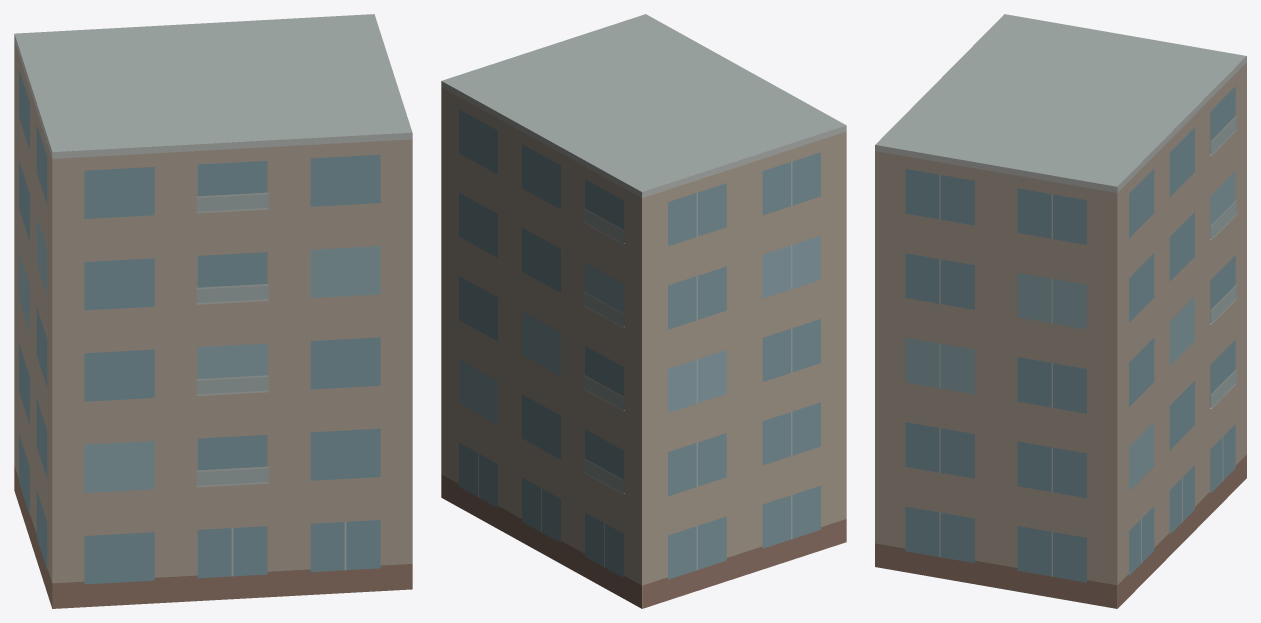
The model's file is survey-upis-32537565.glb.
3 views of the same model, side by side, from view 1: azimuth 30°, elevation 25°; view 2: azimuth 150°, elevation 25°; view 3: azimuth 270°, elevation 25° (orthographic). The views are drawn at different scales.
Visible parts, largest first — view 1: survey-upis-32537565.tmp; view 2: survey-upis-32537565.tmp; view 3: survey-upis-32537565.tmp.
Boxes of the visible parts, left/top/right/bottom form: survey-upis-32537565.tmp: left=14, top=14, right=412, bottom=608; survey-upis-32537565.tmp: left=441, top=14, right=846, bottom=608; survey-upis-32537565.tmp: left=875, top=14, right=1246, bottom=608.
Size of the model in its own units: 14.63 by 16.65 by 13.3.
